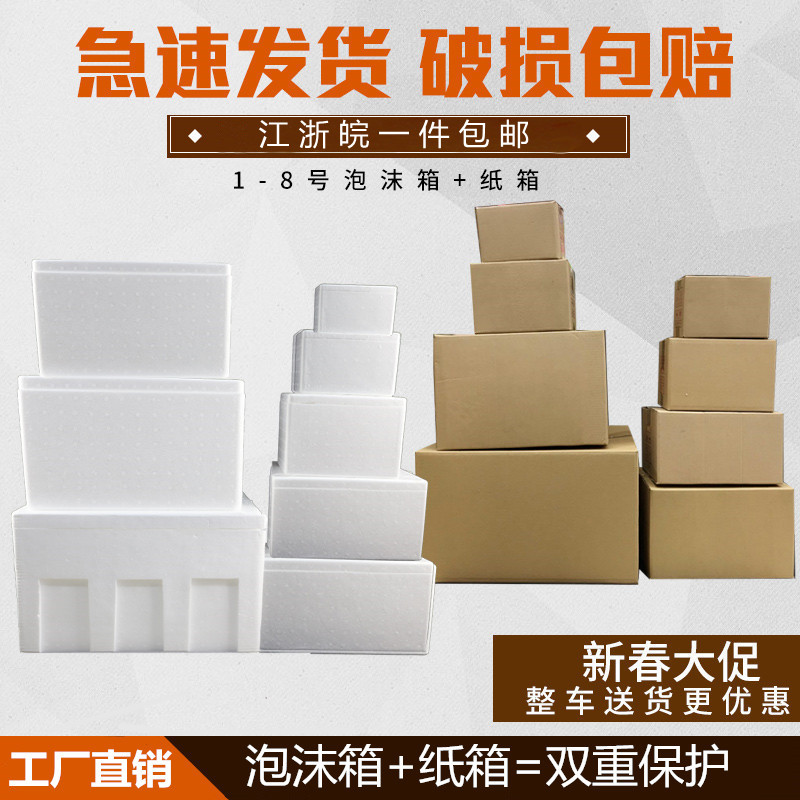泡沫箱: (14, 264, 433, 652)
